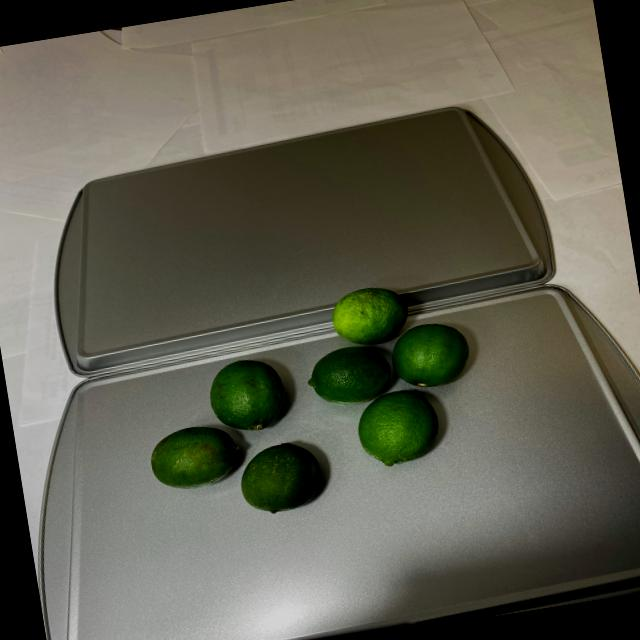lemon: (126, 273, 487, 529)
